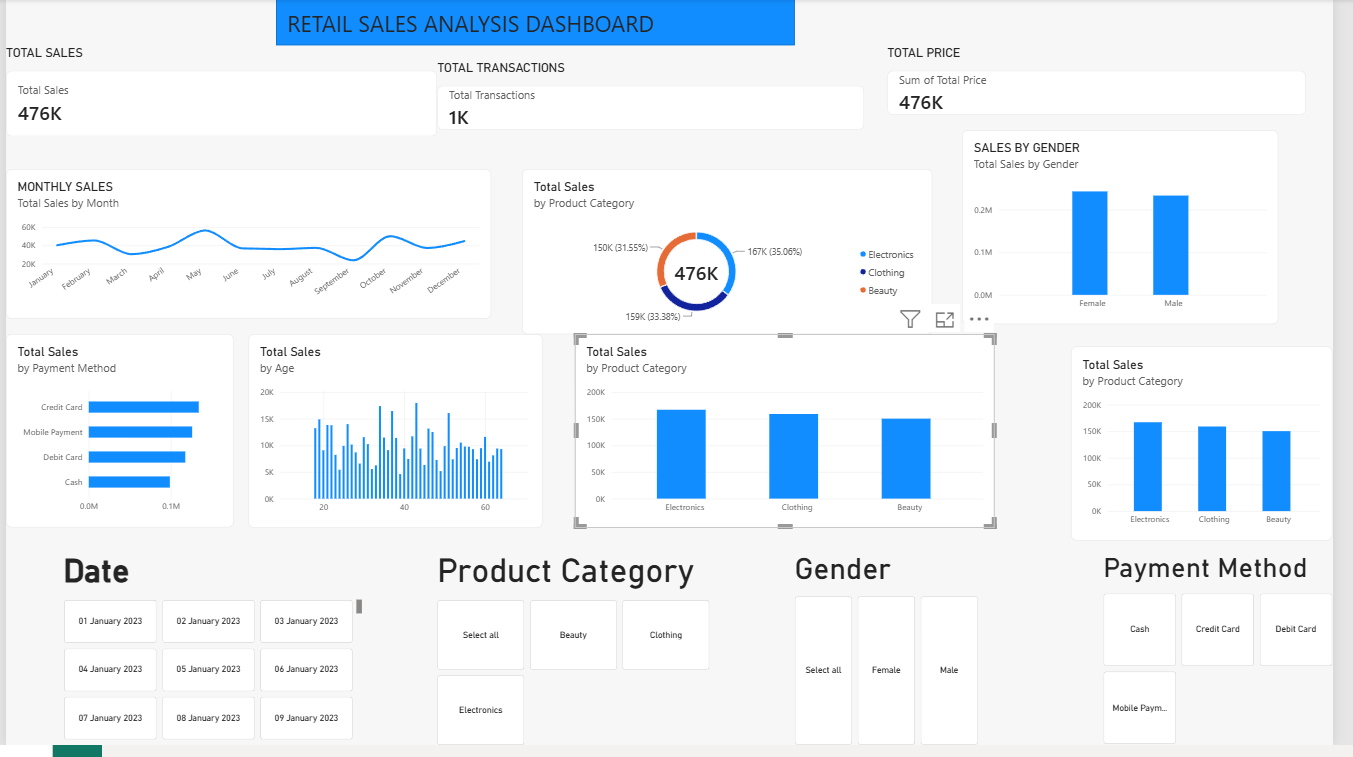

Layout of this report page (visuals, bound fields, positions):
{"tool":"powerbi","page":{"name":"Page 1","canvas":[1920,1080],"ordinal":0},"visuals":[{"type":"cardVisual","title":"TOTAL SALES","fields":{"Data":["Retail Sales Dataset (2).Total Sales"]},"box":[0,67,624.3,132.1],"z":0},{"type":"cardVisual","title":"TOTAL TRANSACTIONS","fields":{"Data":["Retail Sales Dataset (2).Total Transactions"]},"box":[624.3,88.7,618.9,101.3],"z":1000},{"type":"cardVisual","title":"TOTAL PRICE","fields":{"Data":["Sum(Retail Sales Dataset (2).Total Price)"]},"box":[1275.8,67,606.2,101.3],"z":2000},{"type":"clusteredColumnChart","fields":{"Category":["Retail Sales Dataset (2).Product Category"],"Y":["Retail Sales Dataset (2).Total Sales"]},"box":[1541.8,503.1,378.2,280.5],"z":3000},{"type":"lineChart","title":"MONTHLY SALES","fields":{"Y":["Retail Sales Dataset (2).Total Sales"],"Category":["Retail Sales Dataset (2).Date.Variation.Date Hierarchy.Month"]},"box":[0,246.1,702.1,217.2],"z":4000},{"type":"clusteredColumnChart","fields":{"Category":["Retail Sales Dataset (2).Product Category"],"Y":["Retail Sales Dataset (2).Total Sales"]},"box":[837.9,501.3,608,280.5],"z":5000},{"type":"columnChart","title":"SALES BY GENDER","fields":{"Category":["Retail Sales Dataset (2).Gender"],"Y":["Retail Sales Dataset (2).Total Sales"]},"box":[1384.4,190,457.8,280.5],"z":6000},{"type":"barChart","fields":{"Category":["Retail Sales Dataset (2).Payment Method"],"Y":["Retail Sales Dataset (2).Total Sales"]},"box":[0,485,329.3,279.9],"z":7000},{"type":"clusteredColumnChart","fields":{"Category":["Retail Sales Dataset (2).Age"],"Y":["Retail Sales Dataset (2).Total Sales"]},"box":[351.1,485,425.3,280.5],"z":8000},{"type":"advancedSlicerVisual","fields":{"Values":["Retail Sales Dataset (2).Date"]},"box":[83.2,799.9,432.5,273.3],"z":9000},{"type":"advancedSlicerVisual","fields":{"Values":["Retail Sales Dataset (2).Product Category"]},"box":[624.3,799.9,396.3,280.5],"z":10000},{"type":"advancedSlicerVisual","fields":{"Values":["Retail Sales Dataset (2).Gender"]},"box":[1141.9,799.9,267.8,280.5],"z":11000},{"type":"advancedSlicerVisual","fields":{"Values":["Retail Sales Dataset (2).Payment Method"]},"box":[1588.9,799.9,331.2,280.5],"z":12000},{"type":"textbox","box":[407.2,0,1433.3,67],"z":13000},{"type":"donutChart","fields":{"Category":["Retail Sales Dataset (2).Product Category"],"Y":["Retail Sales Dataset (2).Total Sales"]},"box":[747.4,246.1,593.6,238.9],"z":14000},{"type":"shape","box":[390.9,0,751,67],"z":15000},{"type":"textbox","box":[1410,800,432,280],"z":16000},{"type":"textbox","box":[407.2,12.7,716.6,143],"z":17000}]}

Visuals, with their boxes in screenshot pixels (x1, y1, x2, y2), scaled from the page's 1920x1080 canvas onto the 1353x757 screenshot:
"TOTAL SALES" cardVisual: x1=0, y1=47, x2=440, y2=140
"TOTAL TRANSACTIONS" cardVisual: x1=440, y1=62, x2=876, y2=133
"TOTAL PRICE" cardVisual: x1=899, y1=47, x2=1326, y2=118
clusteredColumnChart - Retail Sales Dataset (2).Product Category x Retail Sales Dataset (2).Total Sales: x1=1086, y1=353, x2=1352, y2=549
"MONTHLY SALES" lineChart: x1=0, y1=172, x2=495, y2=325
clusteredColumnChart - Retail Sales Dataset (2).Product Category x Retail Sales Dataset (2).Total Sales: x1=590, y1=351, x2=1019, y2=548
"SALES BY GENDER" columnChart: x1=976, y1=133, x2=1298, y2=330
barChart - Retail Sales Dataset (2).Payment Method x Retail Sales Dataset (2).Total Sales: x1=0, y1=340, x2=232, y2=536
clusteredColumnChart - Retail Sales Dataset (2).Age x Retail Sales Dataset (2).Total Sales: x1=247, y1=340, x2=547, y2=537
advancedSlicerVisual - Retail Sales Dataset (2).Date: x1=59, y1=561, x2=363, y2=752
advancedSlicerVisual - Retail Sales Dataset (2).Product Category: x1=440, y1=561, x2=719, y2=756
advancedSlicerVisual - Retail Sales Dataset (2).Gender: x1=805, y1=561, x2=993, y2=756
advancedSlicerVisual - Retail Sales Dataset (2).Payment Method: x1=1120, y1=561, x2=1352, y2=756
textbox: x1=287, y1=0, x2=1297, y2=47
donutChart - Retail Sales Dataset (2).Product Category x Retail Sales Dataset (2).Total Sales: x1=527, y1=172, x2=945, y2=340
shape: x1=275, y1=0, x2=805, y2=47
textbox: x1=994, y1=561, x2=1298, y2=756
textbox: x1=287, y1=9, x2=792, y2=109
